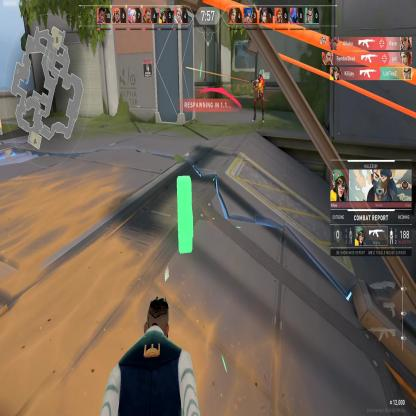enemy: (251, 69, 266, 123)
